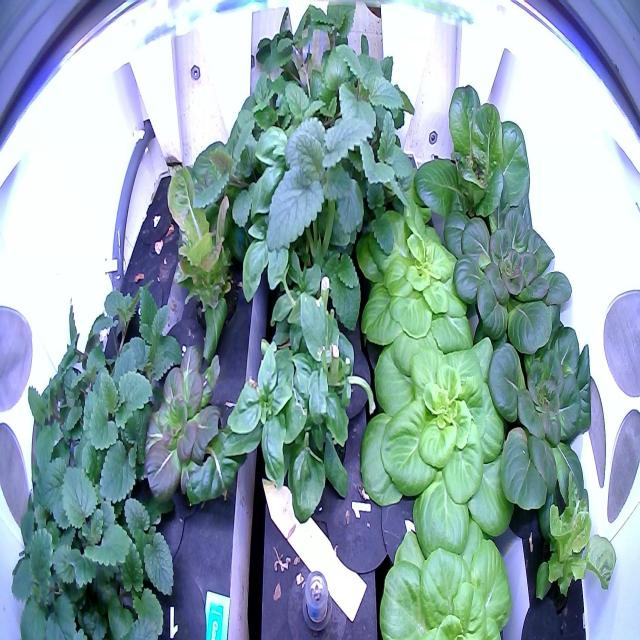empty_pod: (125, 551, 216, 639), (135, 189, 176, 251)
young: (356, 317, 528, 557), (484, 299, 608, 554), (408, 68, 539, 256), (446, 190, 580, 363), (366, 502, 528, 638), (348, 198, 486, 354), (136, 326, 235, 517)
